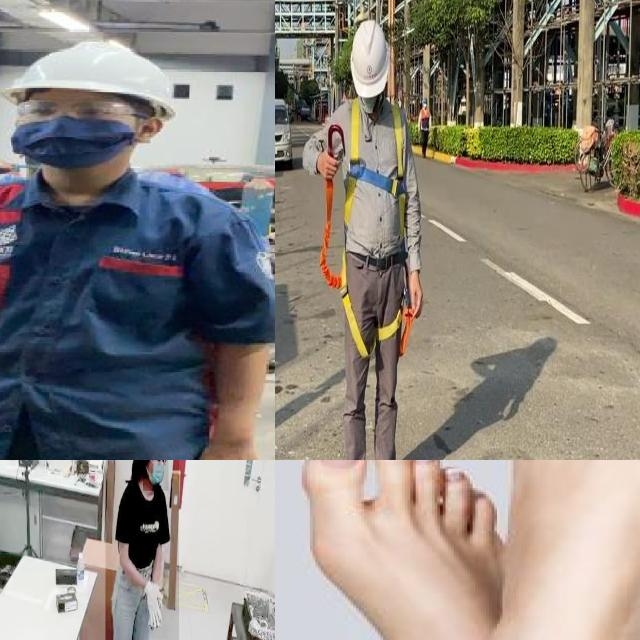Barefoots: (506, 460, 640, 640)
Harness: (320, 181, 414, 360), (346, 100, 407, 242)
No_Ear-Protection: (136, 120, 163, 144)
face_mask: (14, 116, 134, 168), (143, 460, 168, 490)
glasses: (17, 100, 147, 130)
hand_glove: (145, 575, 167, 640)
hand_noglove: (200, 391, 257, 460)
head_helmet: (2, 41, 176, 119)
person: (105, 460, 179, 640)
